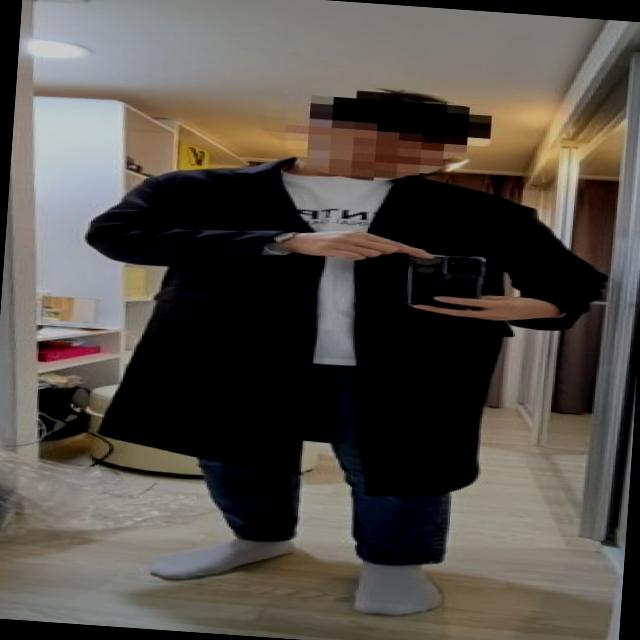coat: (63, 145, 610, 510)
denimpants: (198, 353, 467, 569)
